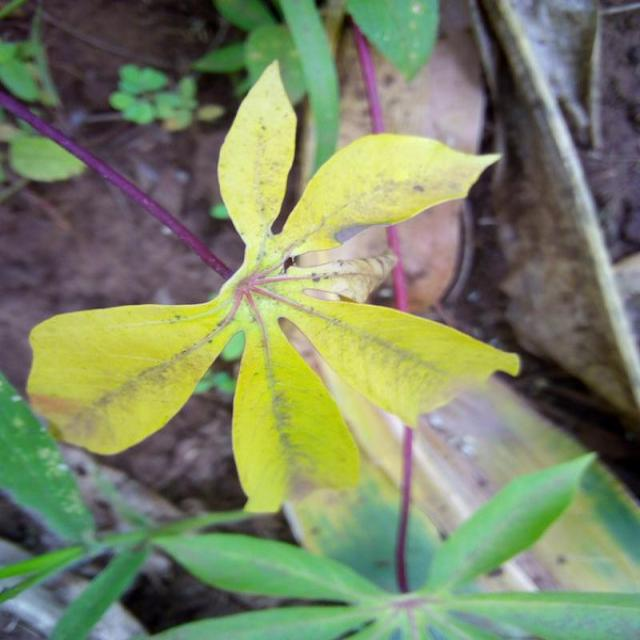cassava leaf: (25, 58, 521, 515)
